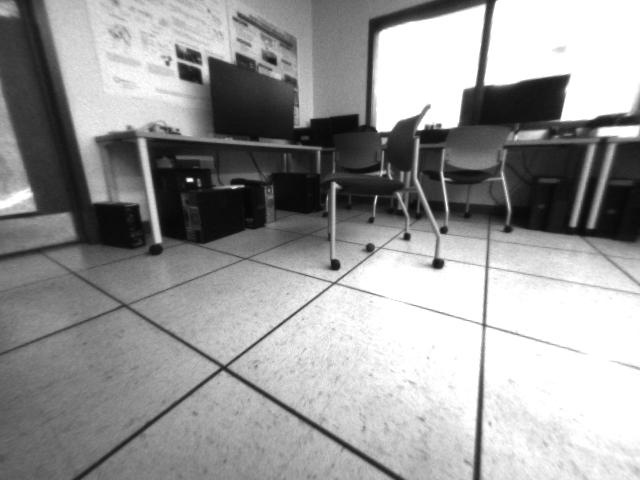dogtoy: (362, 236, 380, 256)
